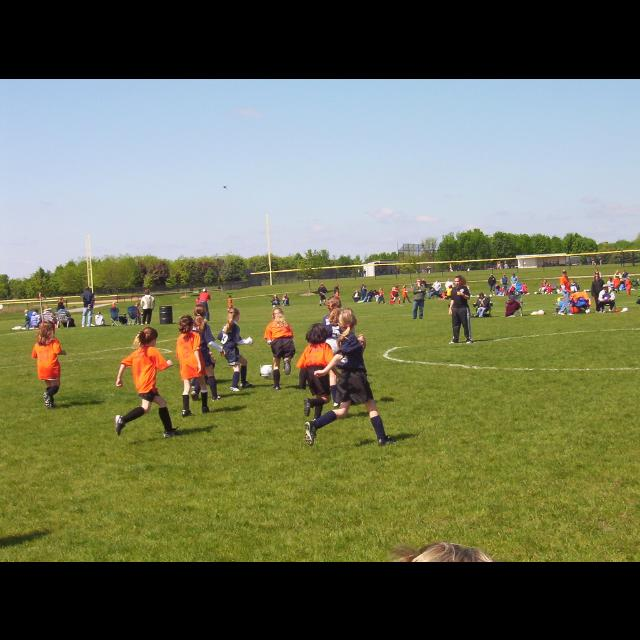Football: (260, 366, 272, 376)
